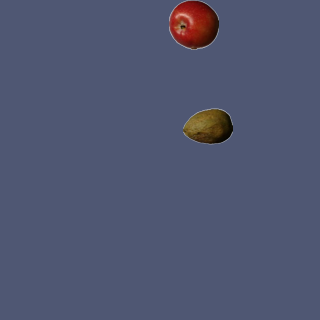Apple Braeburn: (168, 0, 218, 49)
Papaya: (182, 101, 232, 151)
